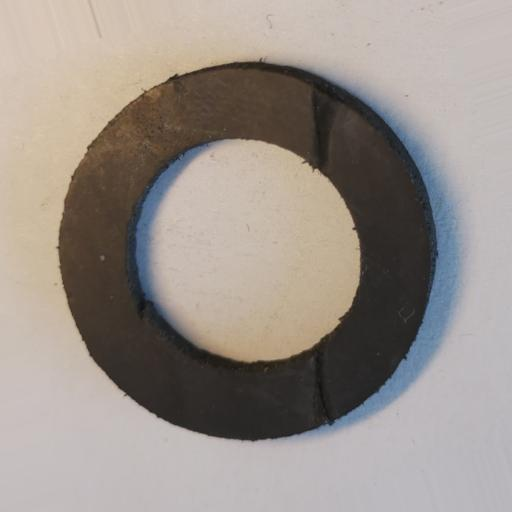defect: (310, 87, 344, 177), (313, 335, 335, 431)
